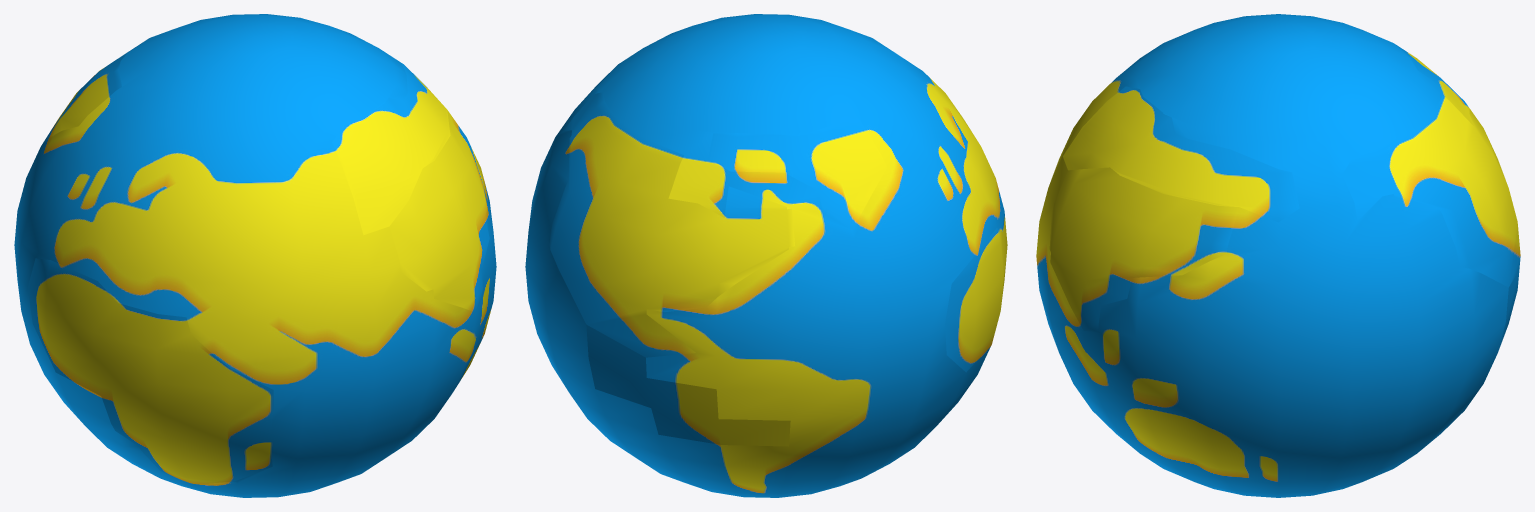
File: PlanetMapSeparated.fbx
3 views of the same model, side by side, from view 1: azimuth 30°, elevation 25°; view 2: azimuth 150°, elevation 25°; view 3: azimuth 270°, elevation 25° (orthographic).
Visible parts, largest first — view 1: polySurface8, polySurface2, polySurface10, polySurface4; view 2: polySurface8, polySurface3, polySurface4, polySurface2; view 3: polySurface8, polySurface10, polySurface3.
Boxes of the visible parts, x1,y1,x2,y2 form: polySurface8: [14, 14, 496, 497]; polySurface2: [27, 258, 273, 484]; polySurface10: [332, 63, 489, 312]; polySurface4: [46, 37, 151, 138]; polySurface8: [525, 14, 1004, 497]; polySurface3: [548, 92, 794, 357]; polySurface4: [708, 118, 886, 229]; polySurface2: [945, 212, 1007, 372]; polySurface8: [1036, 14, 1519, 497]; polySurface10: [1049, 86, 1299, 331]; polySurface3: [1342, 95, 1520, 287].
Bounding box in the file's own units: 2 × 2 × 2.
